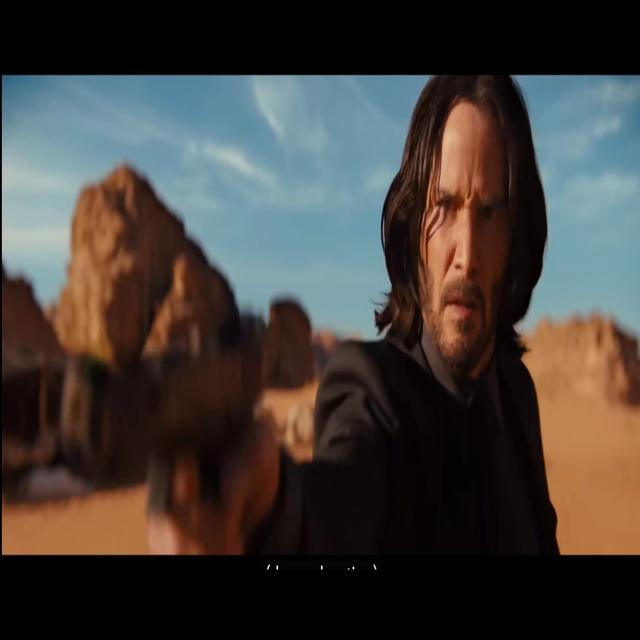weapons: (24, 312, 288, 544)
